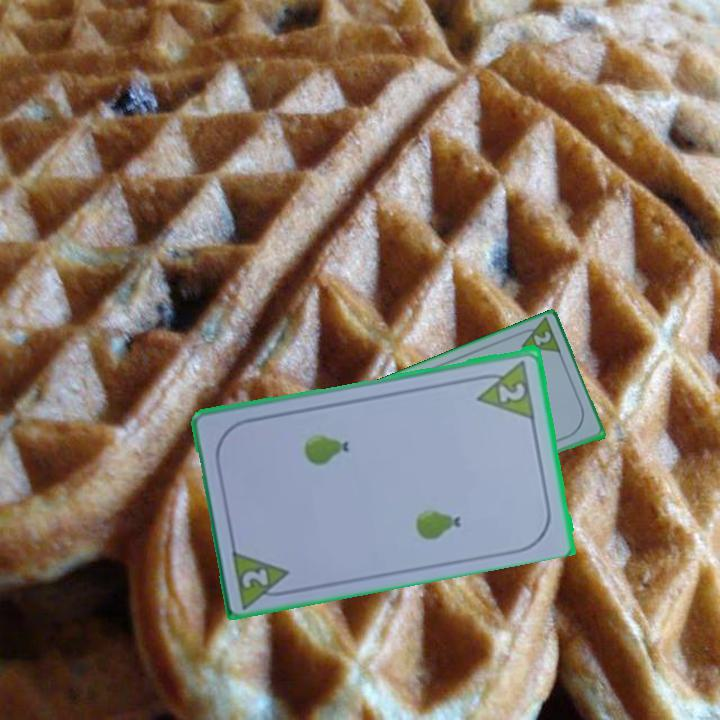2p: (495, 378, 528, 405), (238, 565, 272, 591), (530, 328, 554, 349)
